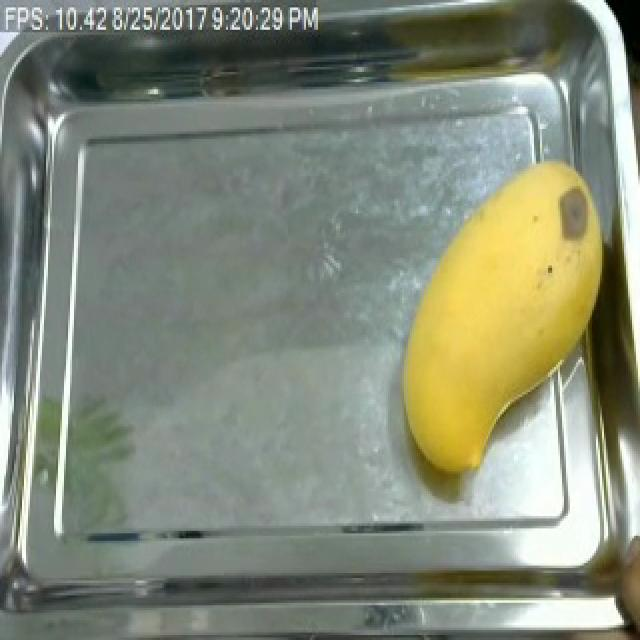fruit: (386, 141, 620, 489)
